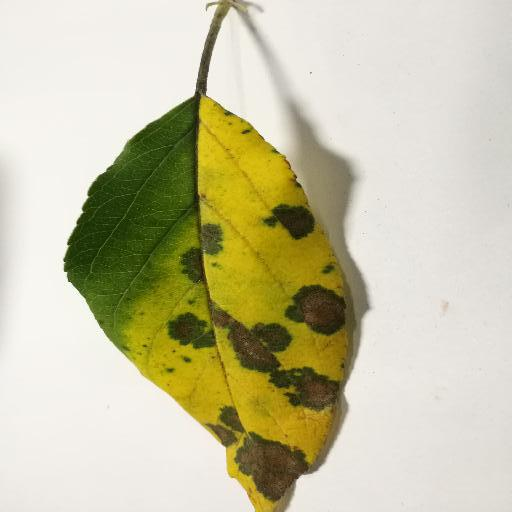Brown_Spot: (208, 412, 307, 498), (208, 309, 279, 372), (280, 290, 342, 332), (282, 376, 345, 410)
